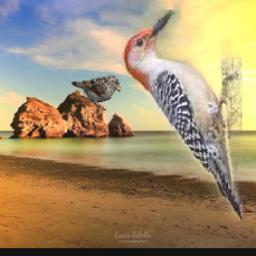Sparrow: (72, 76, 121, 111)
Woodpecker: (122, 10, 243, 222)
